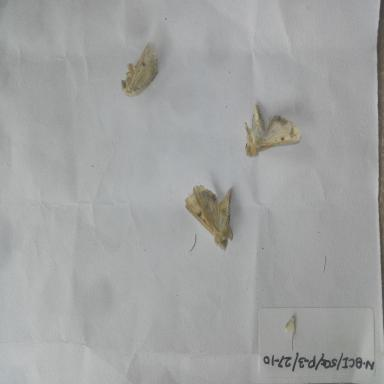abw: (181, 177, 236, 255), (238, 100, 303, 160), (115, 37, 162, 100)
